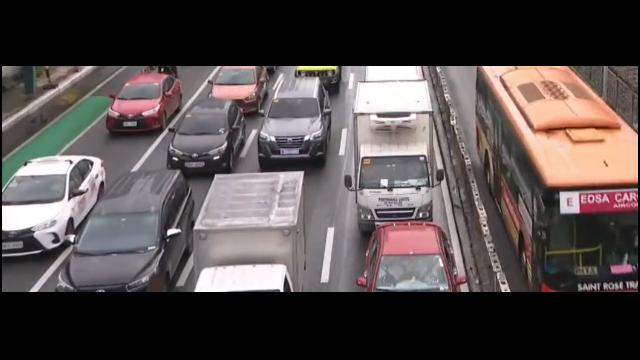bus: (475, 68, 640, 290)
car: (57, 166, 197, 293), (0, 157, 105, 259), (260, 78, 337, 175), (357, 222, 460, 294), (168, 99, 248, 174), (103, 74, 181, 133), (211, 64, 270, 116)
truck: (184, 166, 318, 292), (354, 86, 444, 238)
